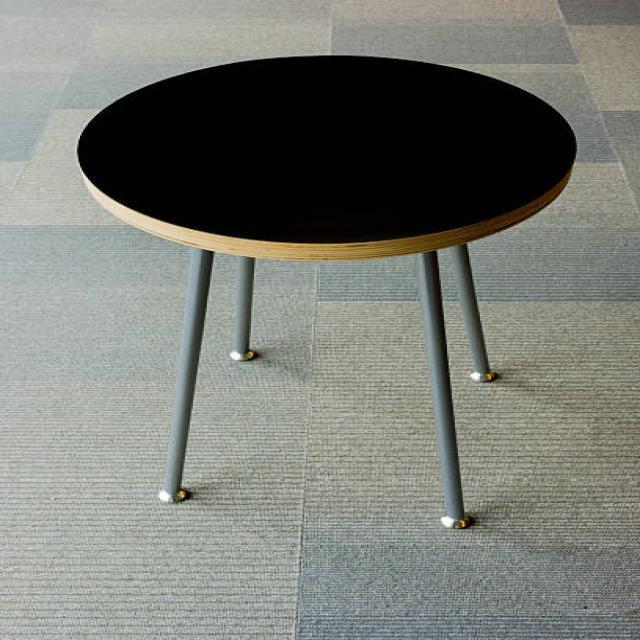table: (75, 53, 578, 529)
